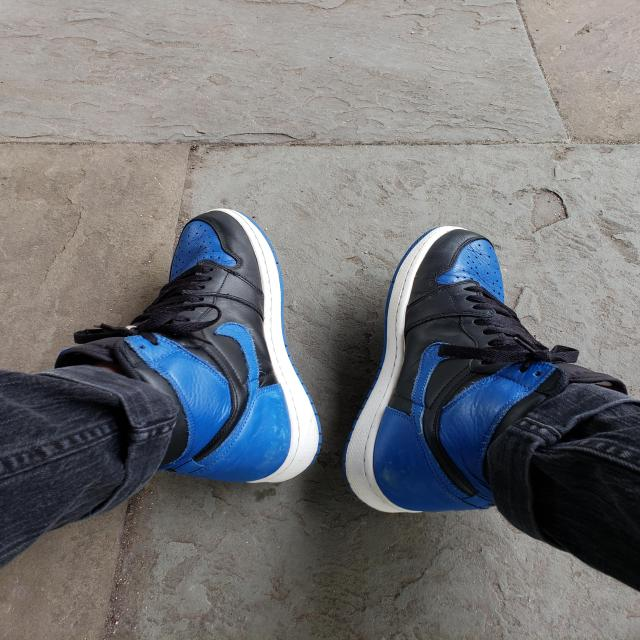shoes: (43, 202, 329, 496), (336, 221, 586, 528)
